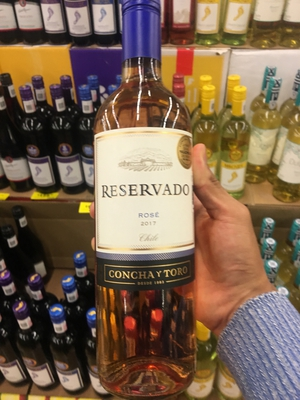reservado rose: (92, 22, 199, 387)
